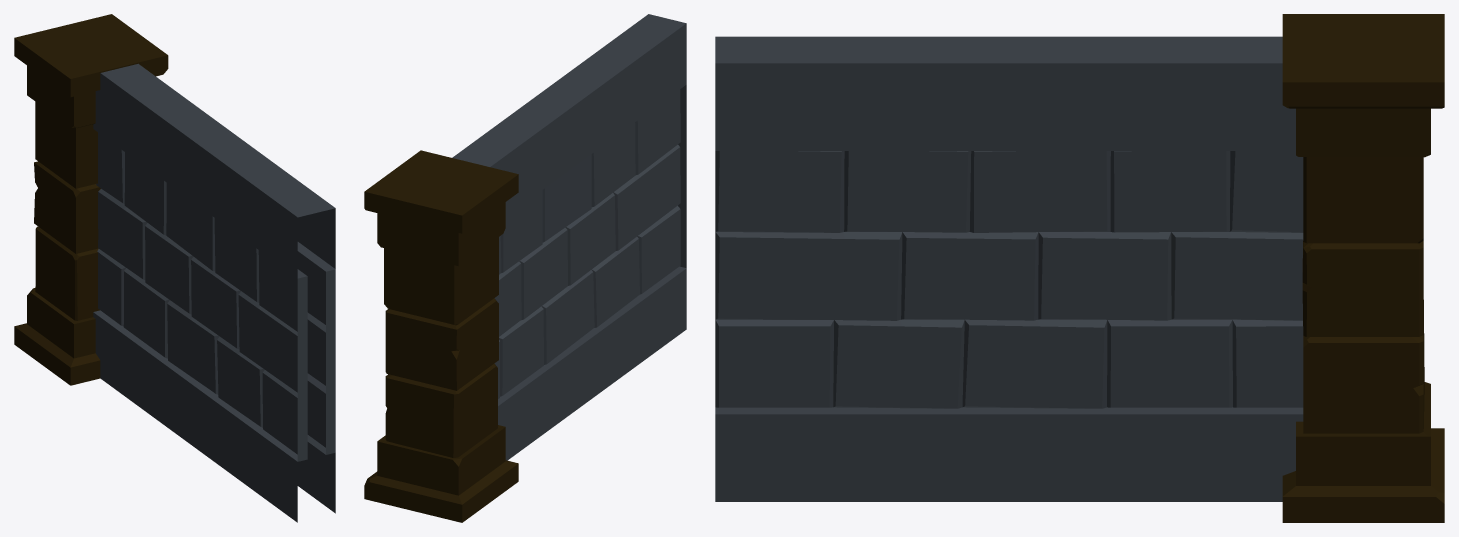
The model's file is wall_stone_with_cloumn_2.glb.
The picture shows the model from 3 angles, left to right: view 1: azimuth 30°, elevation 25°; view 2: azimuth 150°, elevation 25°; view 3: azimuth 270°, elevation 25°; orthographic projection. The views are drawn at different scales.
Visible parts, largest first — view 1: wall.005; view 2: wall.005; view 3: wall.005.
Boxes of the visible parts, <box> form: wall.005: <box>14,14,335,522</box>; wall.005: <box>364,14,686,522</box>; wall.005: <box>715,14,1444,522</box>.
Size of the model in its own units: 1 by 3 by 4.5.
